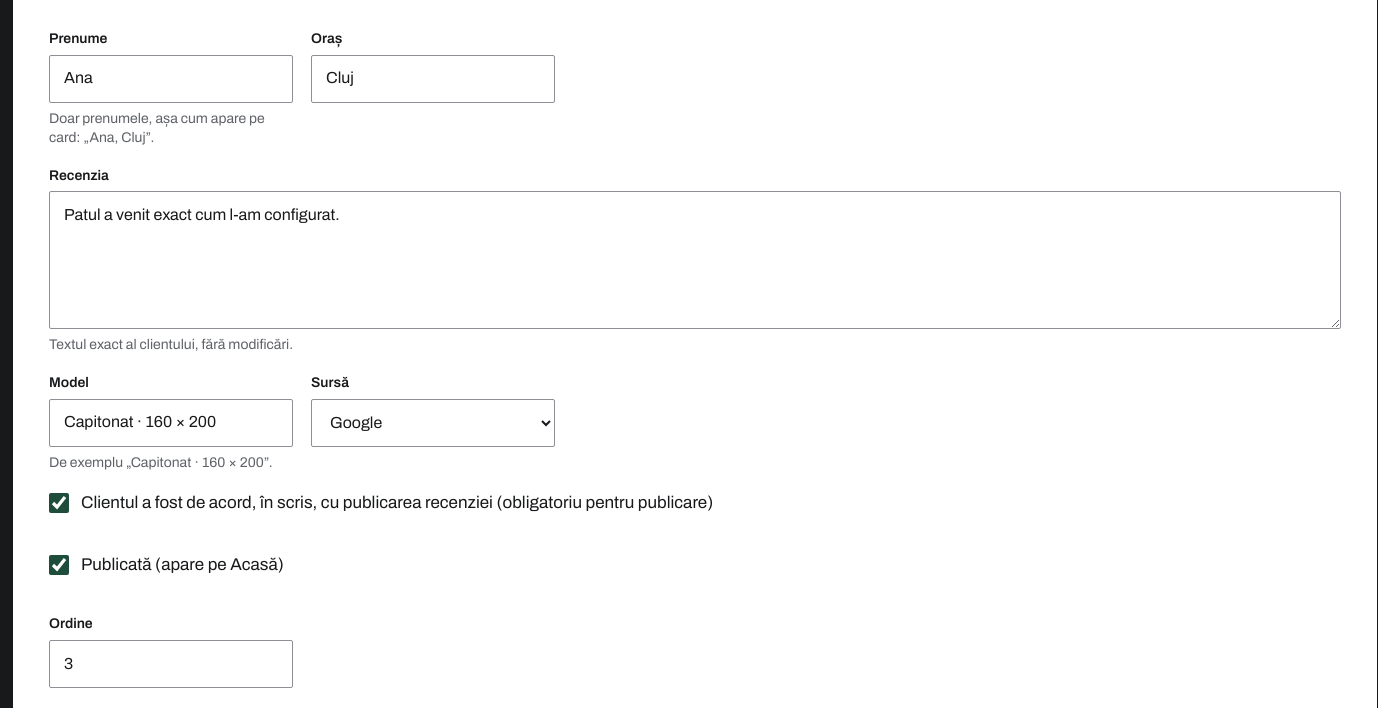
Test: ReviewForm for an existing review › posts the id with the edited values
The width and height of the screenshot is (1378, 708).
Replace the text in the text box labelled "Recenzia" with "Text corectat.": (695, 260) [49,191,1341,329]
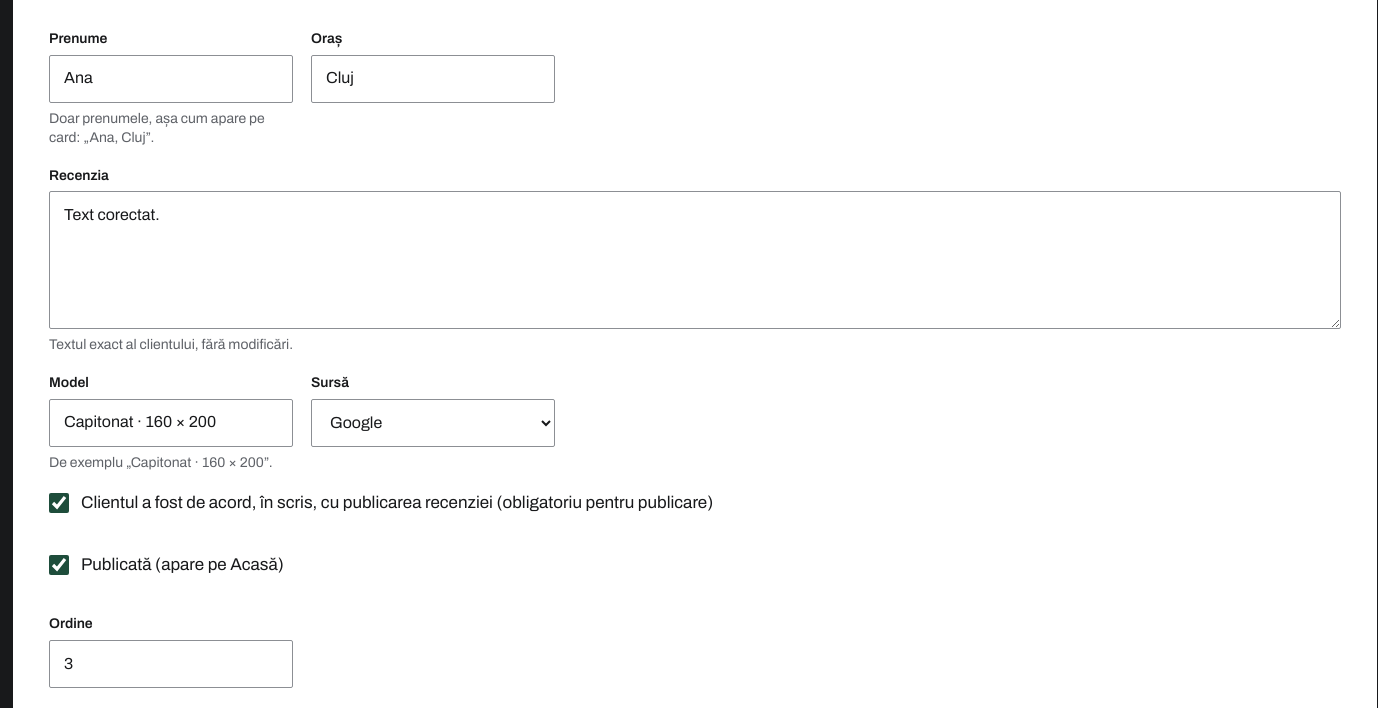
Click the checkbox labelled "Publicată (apare pe Acasă)": (59, 565) [49,555,69,575]
(page scrolled)
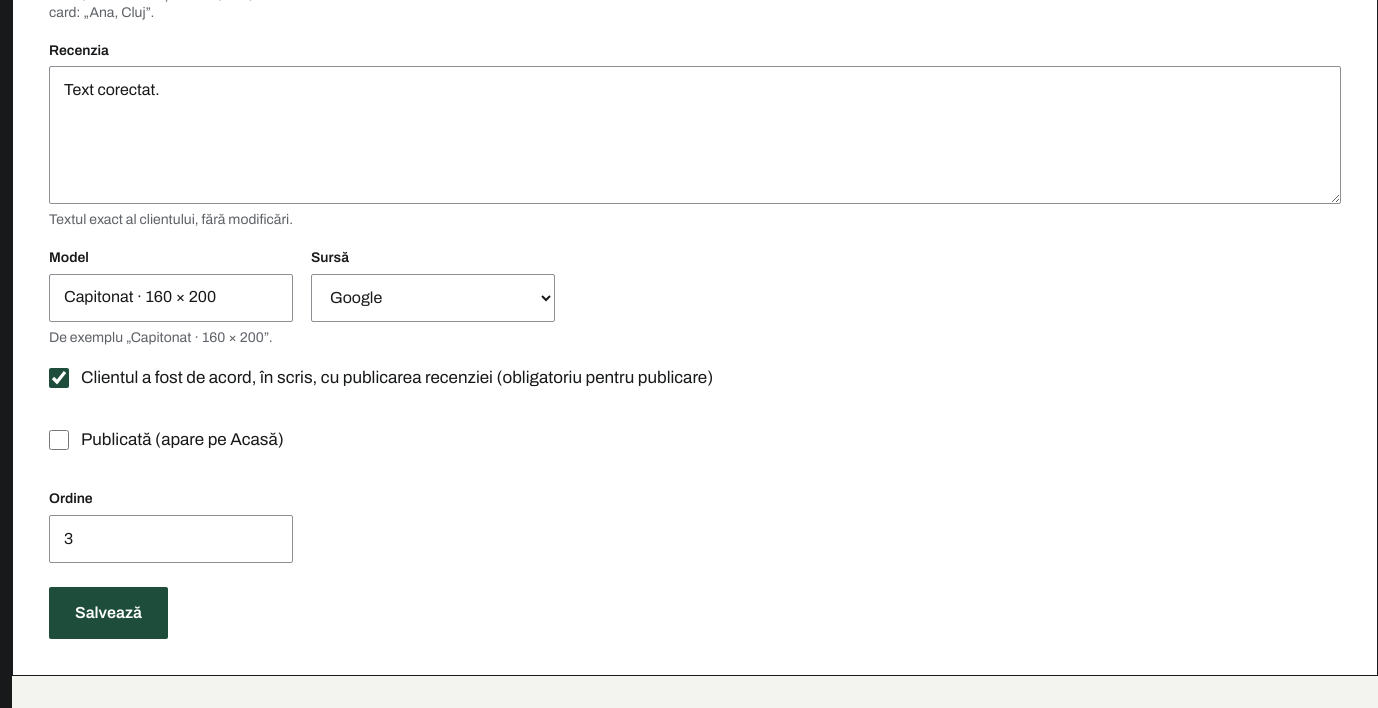
Click the button "Salvează": (108, 613) [49,587,168,639]
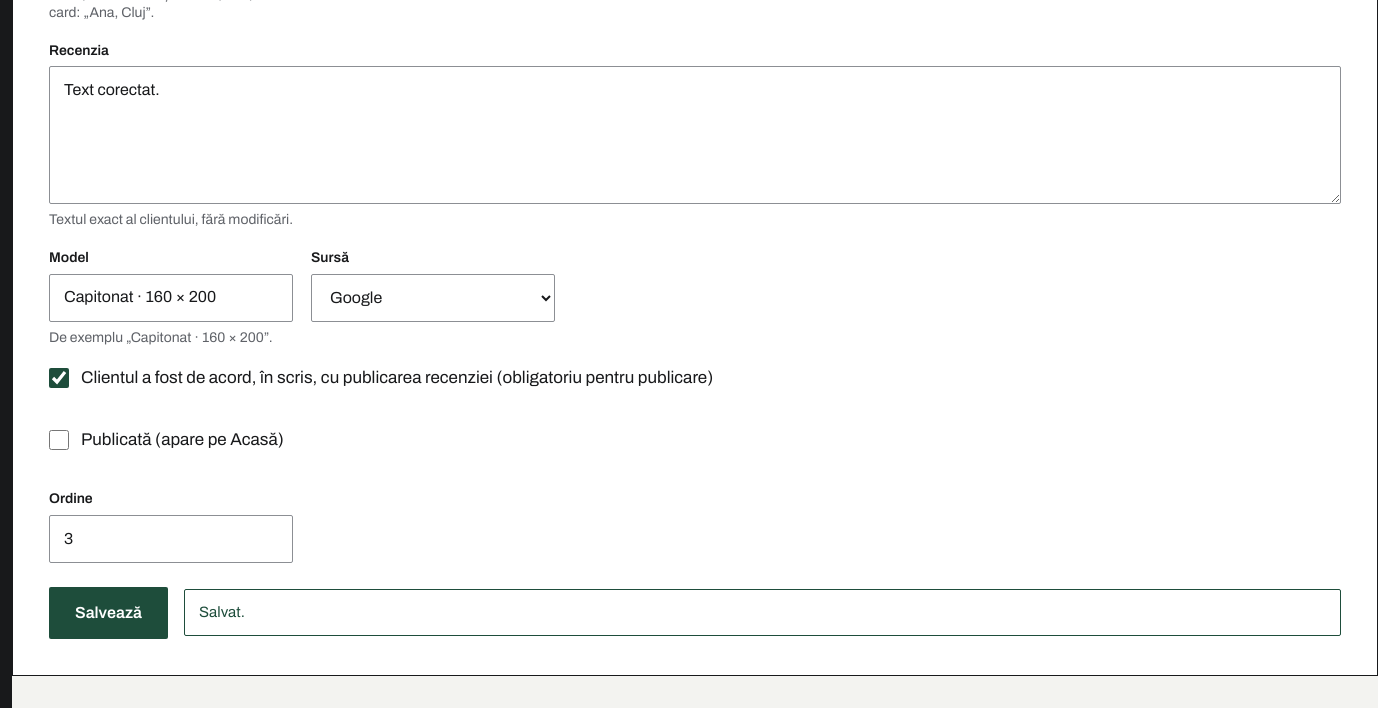
Expected: the message reads "Salvat.", [199,604,245,620]
